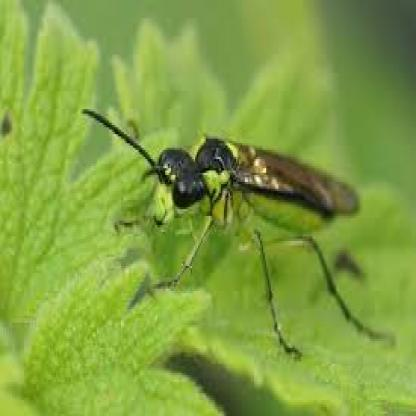sawfly: (82, 107, 396, 356)
